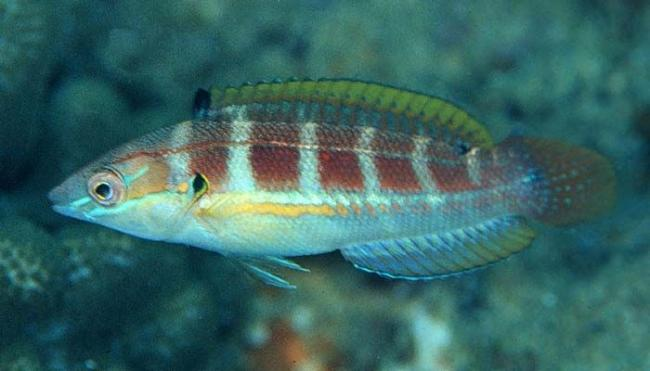fish: (48, 77, 616, 290)
